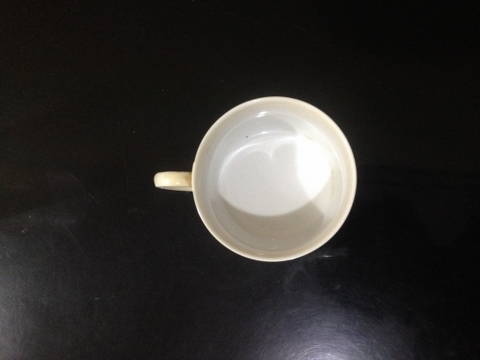tempat minum: (154, 95, 357, 263)
